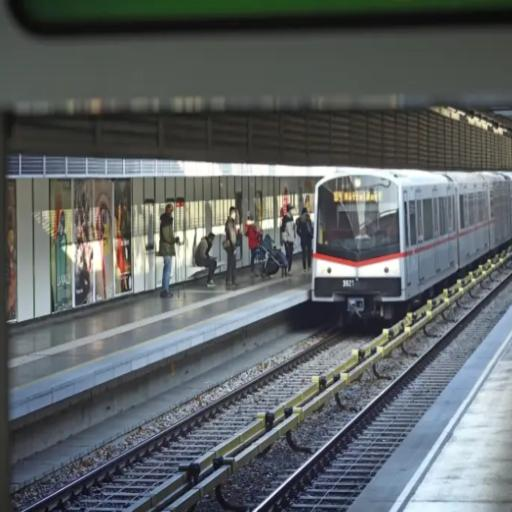V-Wagen: (311, 167, 512, 312)
